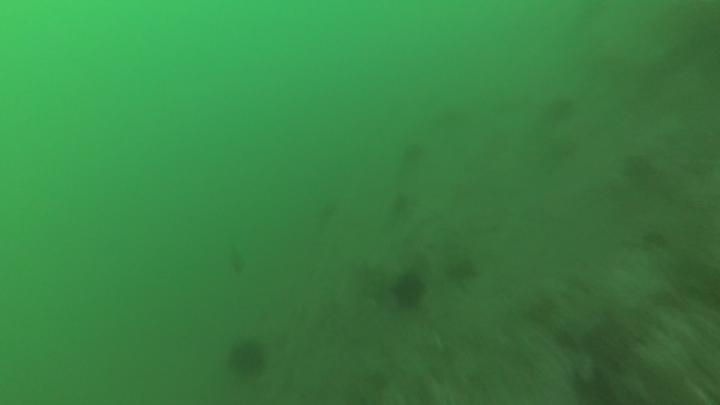echinus: (222, 334, 271, 381), (389, 267, 430, 315)
starfish: (447, 256, 481, 288)
